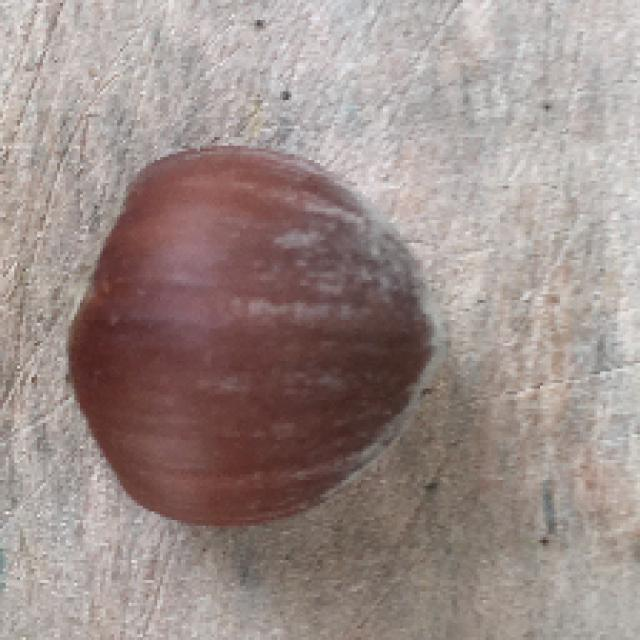DamagedHazelnut: (58, 153, 441, 524)
